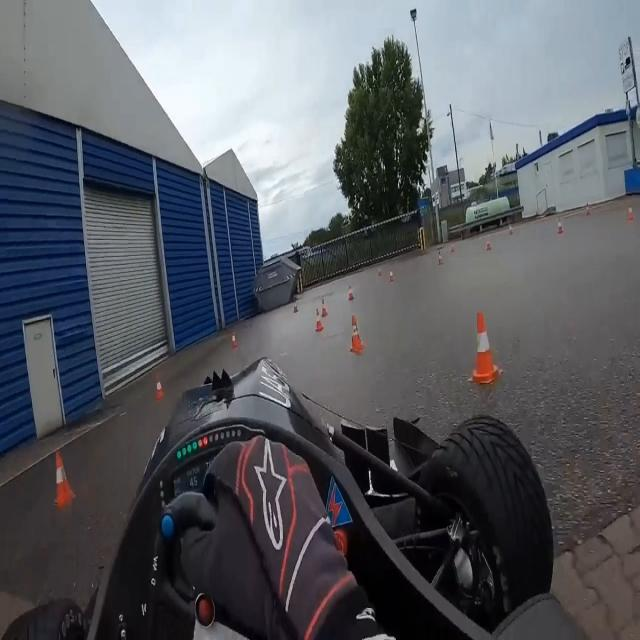Orange cone: (460, 284, 512, 420), (42, 446, 82, 525), (146, 362, 178, 418), (341, 314, 374, 366), (311, 292, 344, 328), (375, 267, 404, 300), (227, 323, 247, 361), (309, 303, 327, 343), (622, 198, 640, 235), (553, 216, 573, 249), (343, 272, 360, 310), (579, 206, 607, 227), (434, 250, 457, 271), (480, 236, 498, 260), (289, 295, 303, 323), (506, 214, 515, 237)
